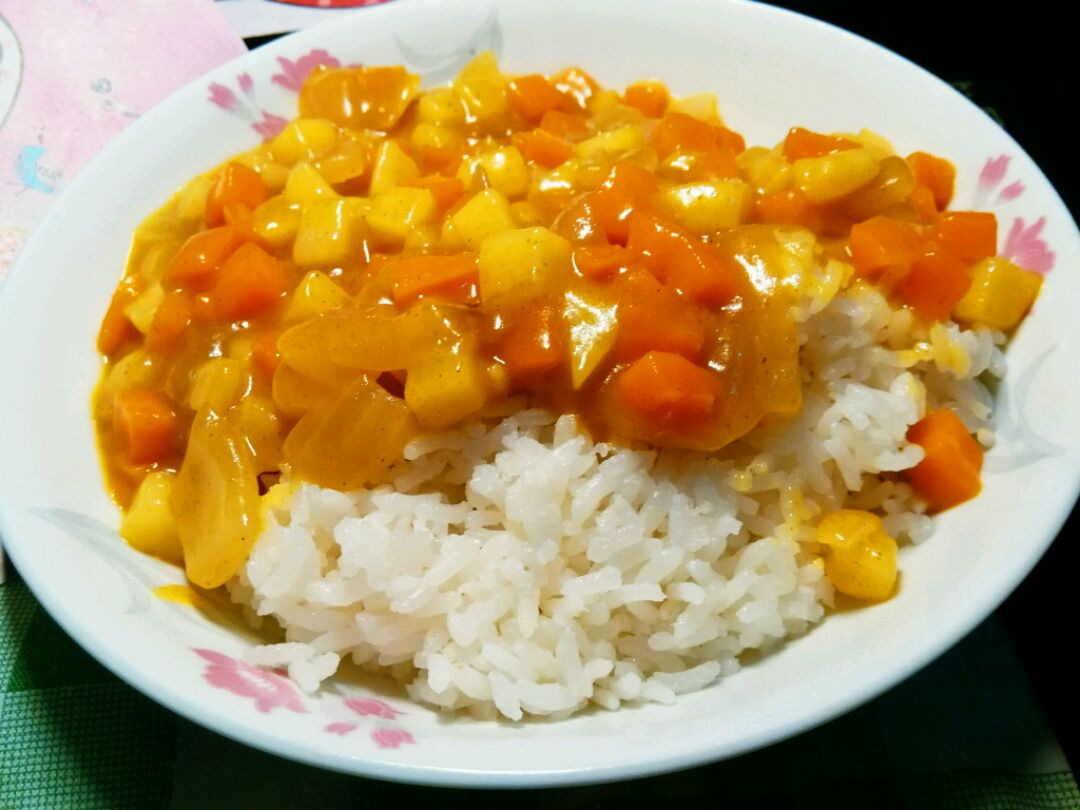curry: (105, 83, 861, 463)
rice: (257, 451, 839, 718)
